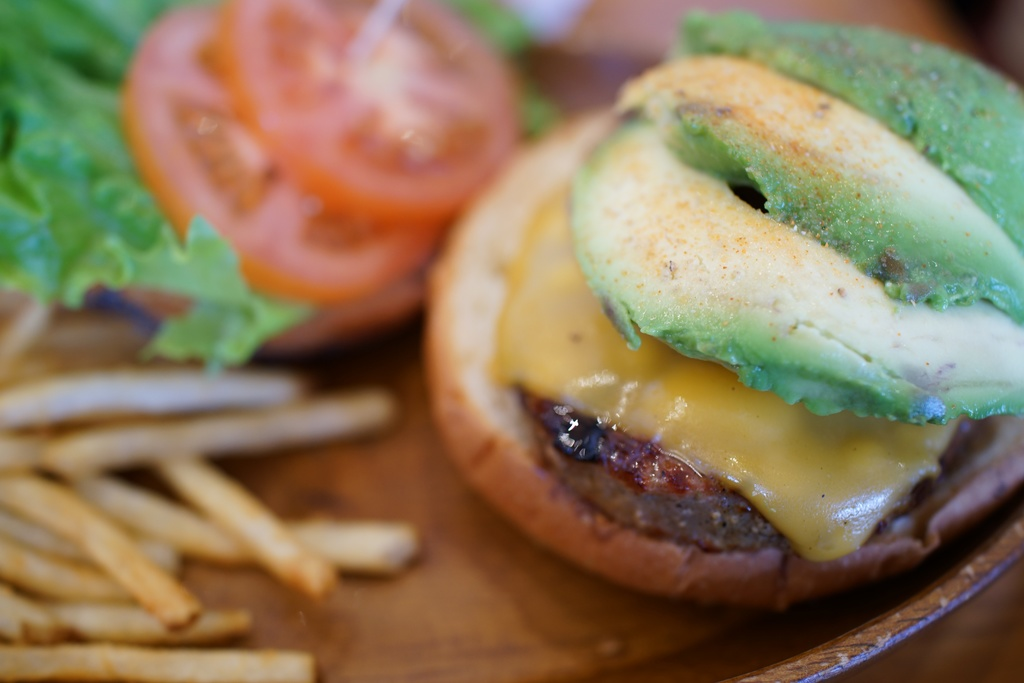French fries: (17, 377, 394, 479), (0, 461, 197, 635), (155, 450, 335, 604), (0, 365, 305, 431), (76, 465, 256, 566), (0, 640, 325, 682), (0, 576, 167, 638), (256, 516, 424, 575), (0, 524, 122, 595), (0, 502, 84, 570)
